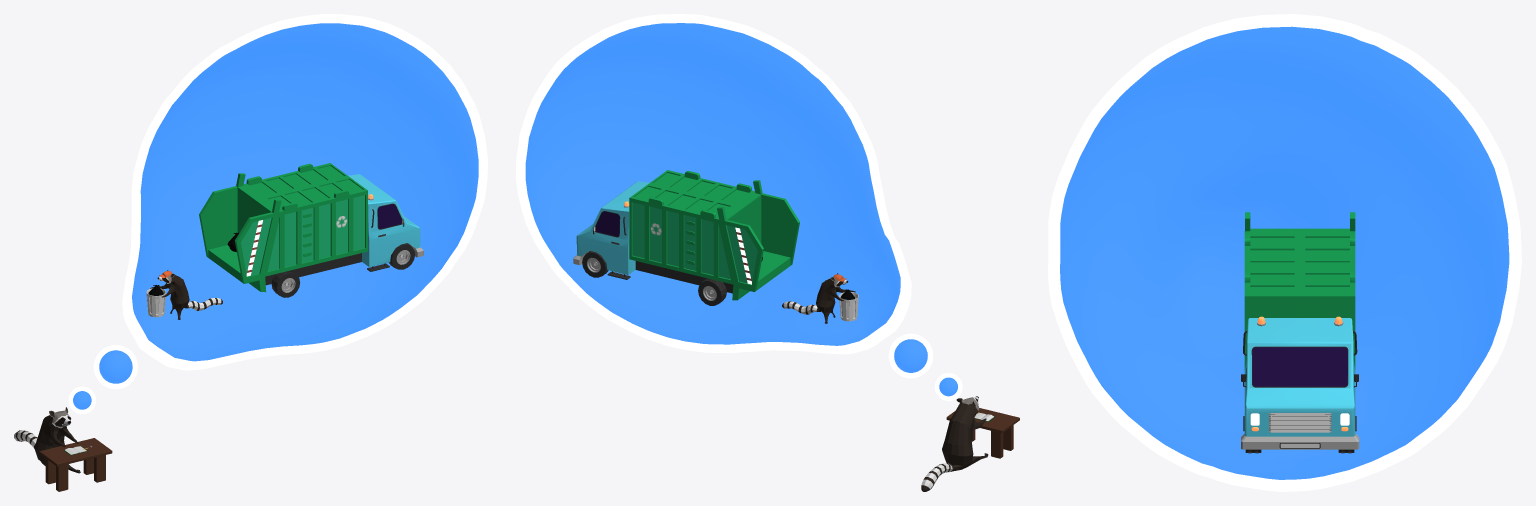
Rendered from imagination.glb.
3 views of the same model, side by side, from view 1: azimuth 30°, elevation 25°; view 2: azimuth 150°, elevation 25°; view 3: azimuth 270°, elevation 25° (orthographic). The views are drawn at different scales.
Visible parts, largest first — view 1: Mball.000_7, Cube.001_5, Cube.002_8, Cube_0, Cylinder_6, Cube.003_12, Circle_13; view 2: Mball.000_7, Cube.001_5, Cube_0, Cube.002_8, Cylinder_6, Cube.003_12, Circle_13; view 3: Mball.000_7, Cube.001_5.
Part boxes in pixels (x1,y1,x2,y2): Mball.000_7: [68, 14, 487, 414]; Cube.001_5: [199, 163, 423, 292]; Cube.002_8: [39, 438, 112, 491]; Cube_0: [14, 407, 80, 473]; Cylinder_6: [271, 243, 414, 297]; Cube.003_12: [150, 270, 222, 319]; Circle_13: [146, 285, 165, 317]; Mball.000_7: [516, 14, 962, 400]; Cube.001_5: [573, 170, 799, 300]; Cube_0: [921, 396, 988, 491]; Cube.002_8: [946, 408, 1019, 458]; Cylinder_6: [582, 251, 726, 305]; Cube.003_12: [782, 273, 855, 323]; Circle_13: [839, 289, 858, 321]; Mball.000_7: [1048, 14, 1521, 491]; Cube.001_5: [1241, 212, 1359, 449].
Size of the model in its own units: 101 by 79.68 by 63.56.
28 materials, 1 textured.
